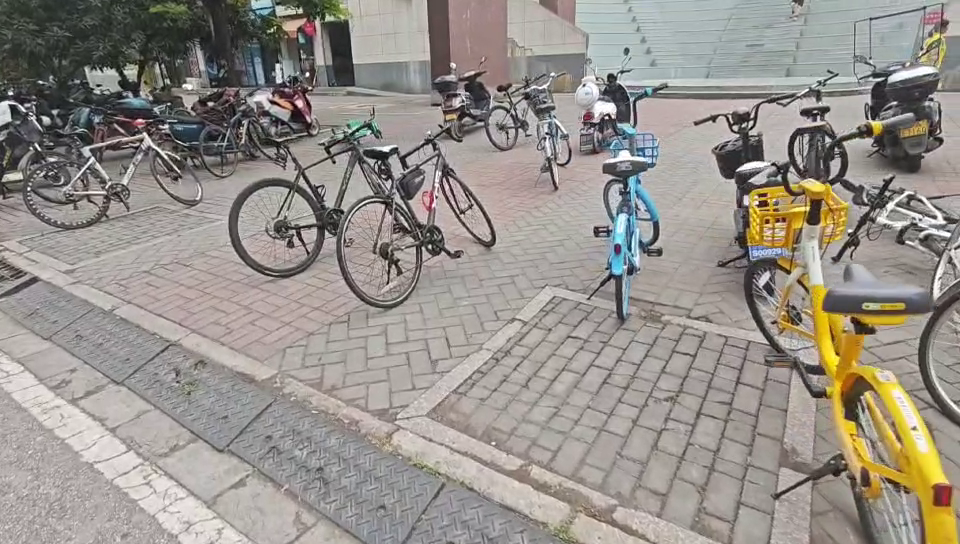others: (226, 114, 418, 273), (334, 126, 497, 304), (31, 126, 205, 224), (856, 10, 949, 164), (497, 66, 575, 190), (776, 72, 853, 194), (571, 45, 643, 152), (424, 57, 490, 142)
shared_bike_haluo: (588, 74, 672, 320)
shared_bike_meituan: (732, 142, 951, 544)
